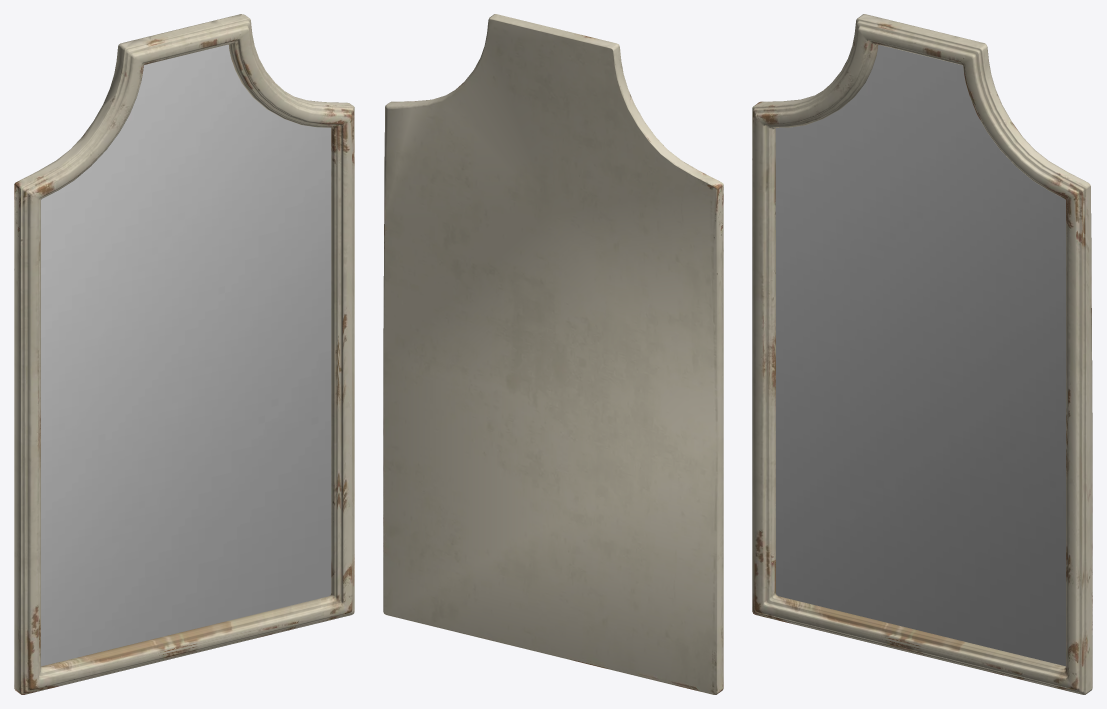
File: B073WGP8YJ.glb
The picture shows the model from 3 angles, left to right: view 1: azimuth 30°, elevation 25°; view 2: azimuth 150°, elevation 25°; view 3: azimuth 330°, elevation 25°; orthographic projection.
Parts seen in each view (by area): view 1: RootNode; view 2: RootNode; view 3: RootNode.
Boxes of the visible parts, box(x1,y1,x2,y2) form: RootNode: box(14, 14, 354, 694); RootNode: box(383, 14, 723, 694); RootNode: box(752, 14, 1092, 694).
Size of the model in its own units: 0.4034 by 0.7174 by 0.0217.
Materials: 1 (1 with a texture image).
